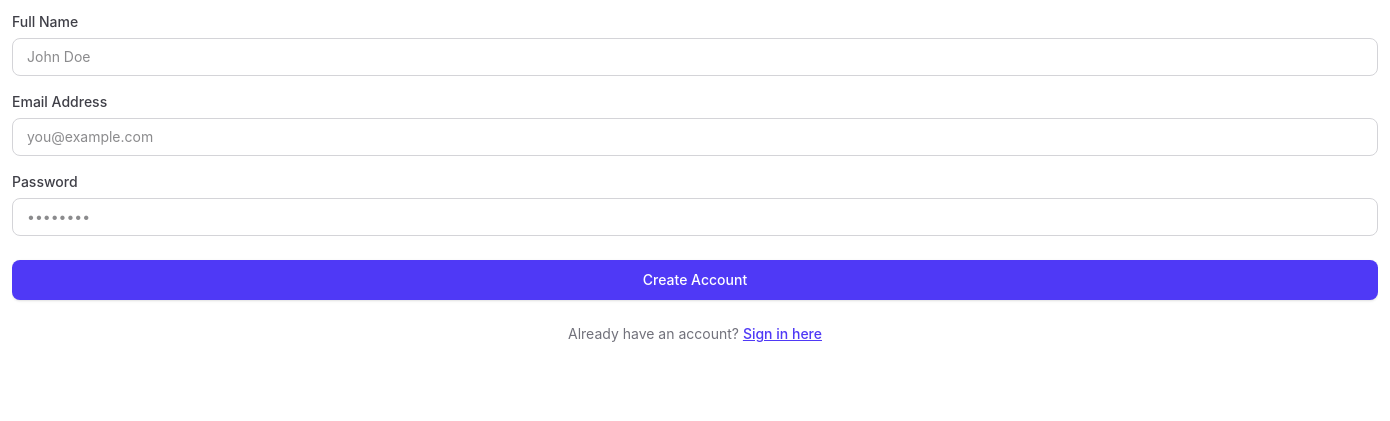
Scenario: SignupForm (TDD) › should display error message when signup fails
This screenshot has width=1390, height=421.
Type "Alice" into the field labelled "Full Name" at (695, 57), box x1=12 y1=38 x2=1378 y2=76
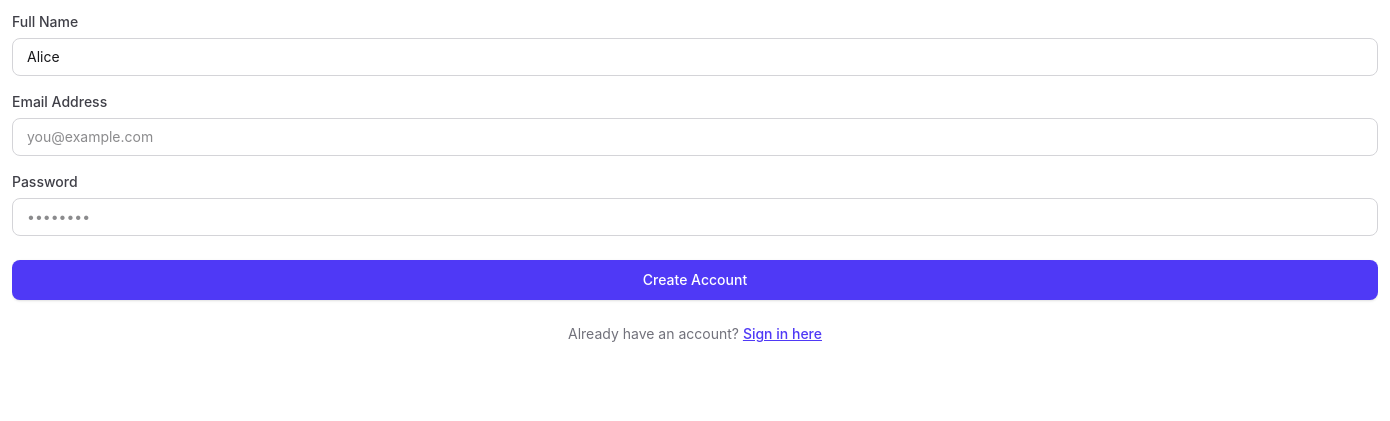
Type "alice@example.com" into the field labelled "Email Address" at (695, 137), box x1=12 y1=118 x2=1378 y2=156
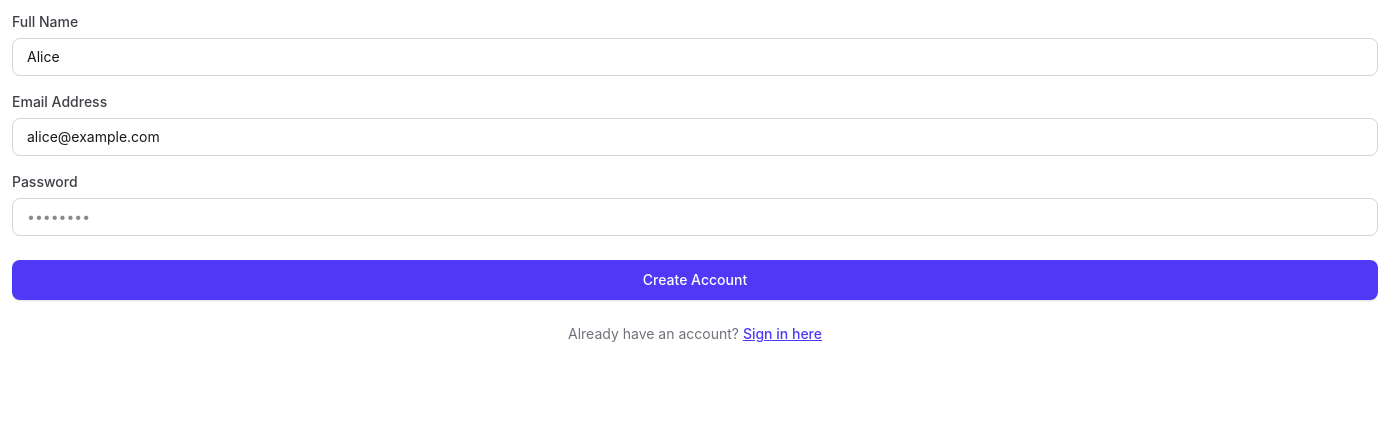
Type "pass" into the password field labelled "Password" at (695, 217), box x1=12 y1=198 x2=1378 y2=236
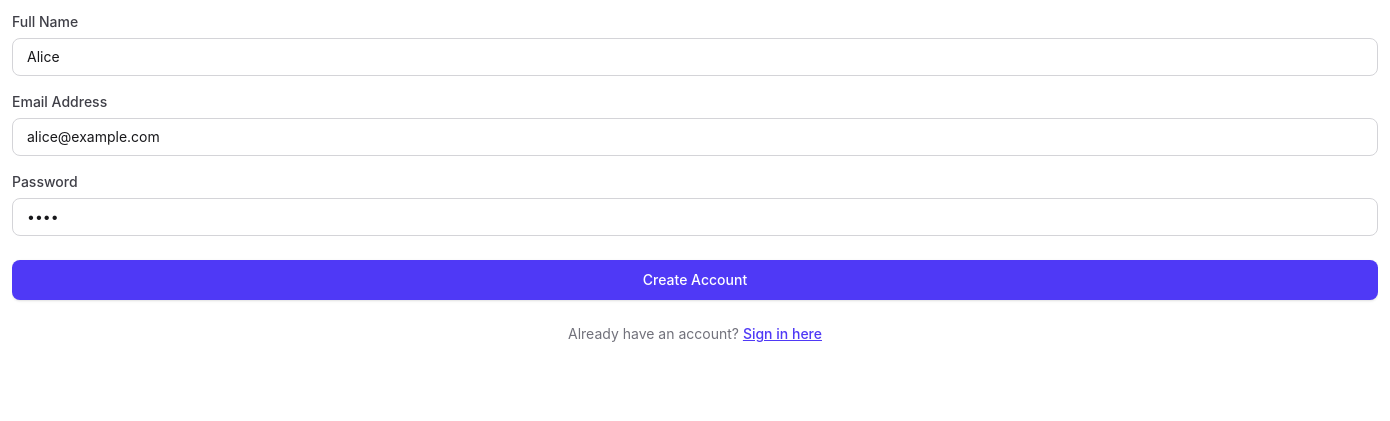
Click the button "Create Account" at (695, 280), box x1=12 y1=260 x2=1378 y2=300
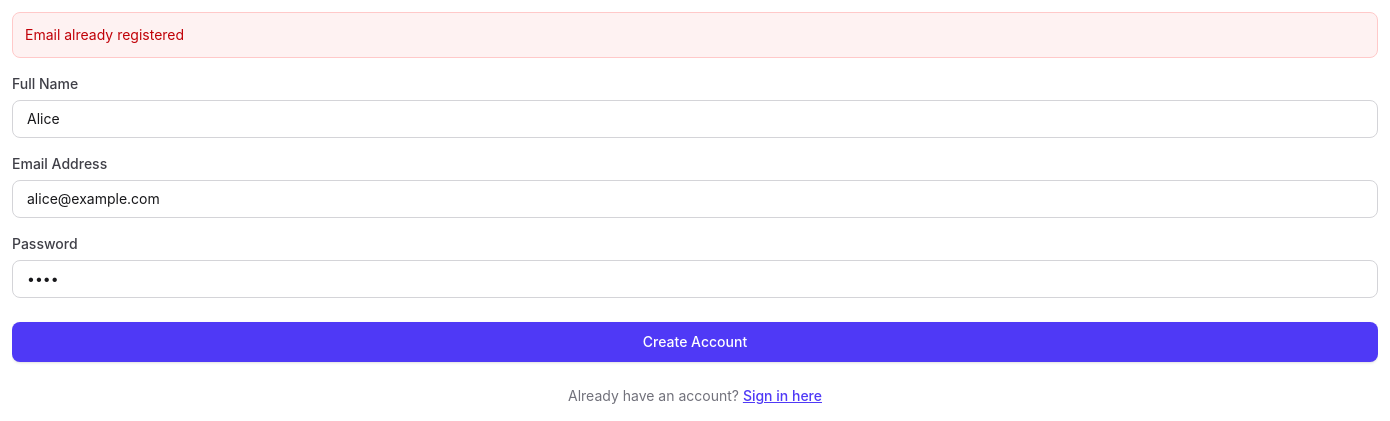
Check: the text "Email already registered" is shown, box x1=12 y1=12 x2=1378 y2=58
